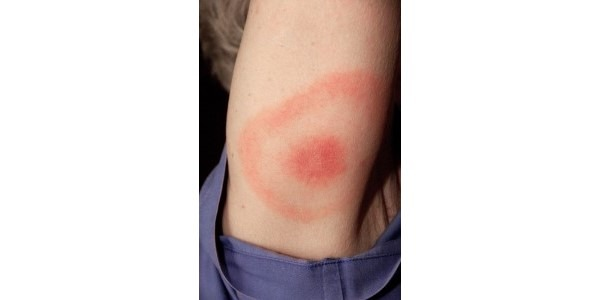Ringworm: (238, 68, 388, 222)
